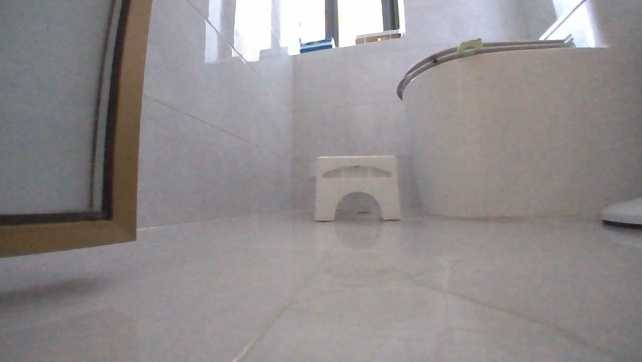toilet: (391, 0, 641, 220)
